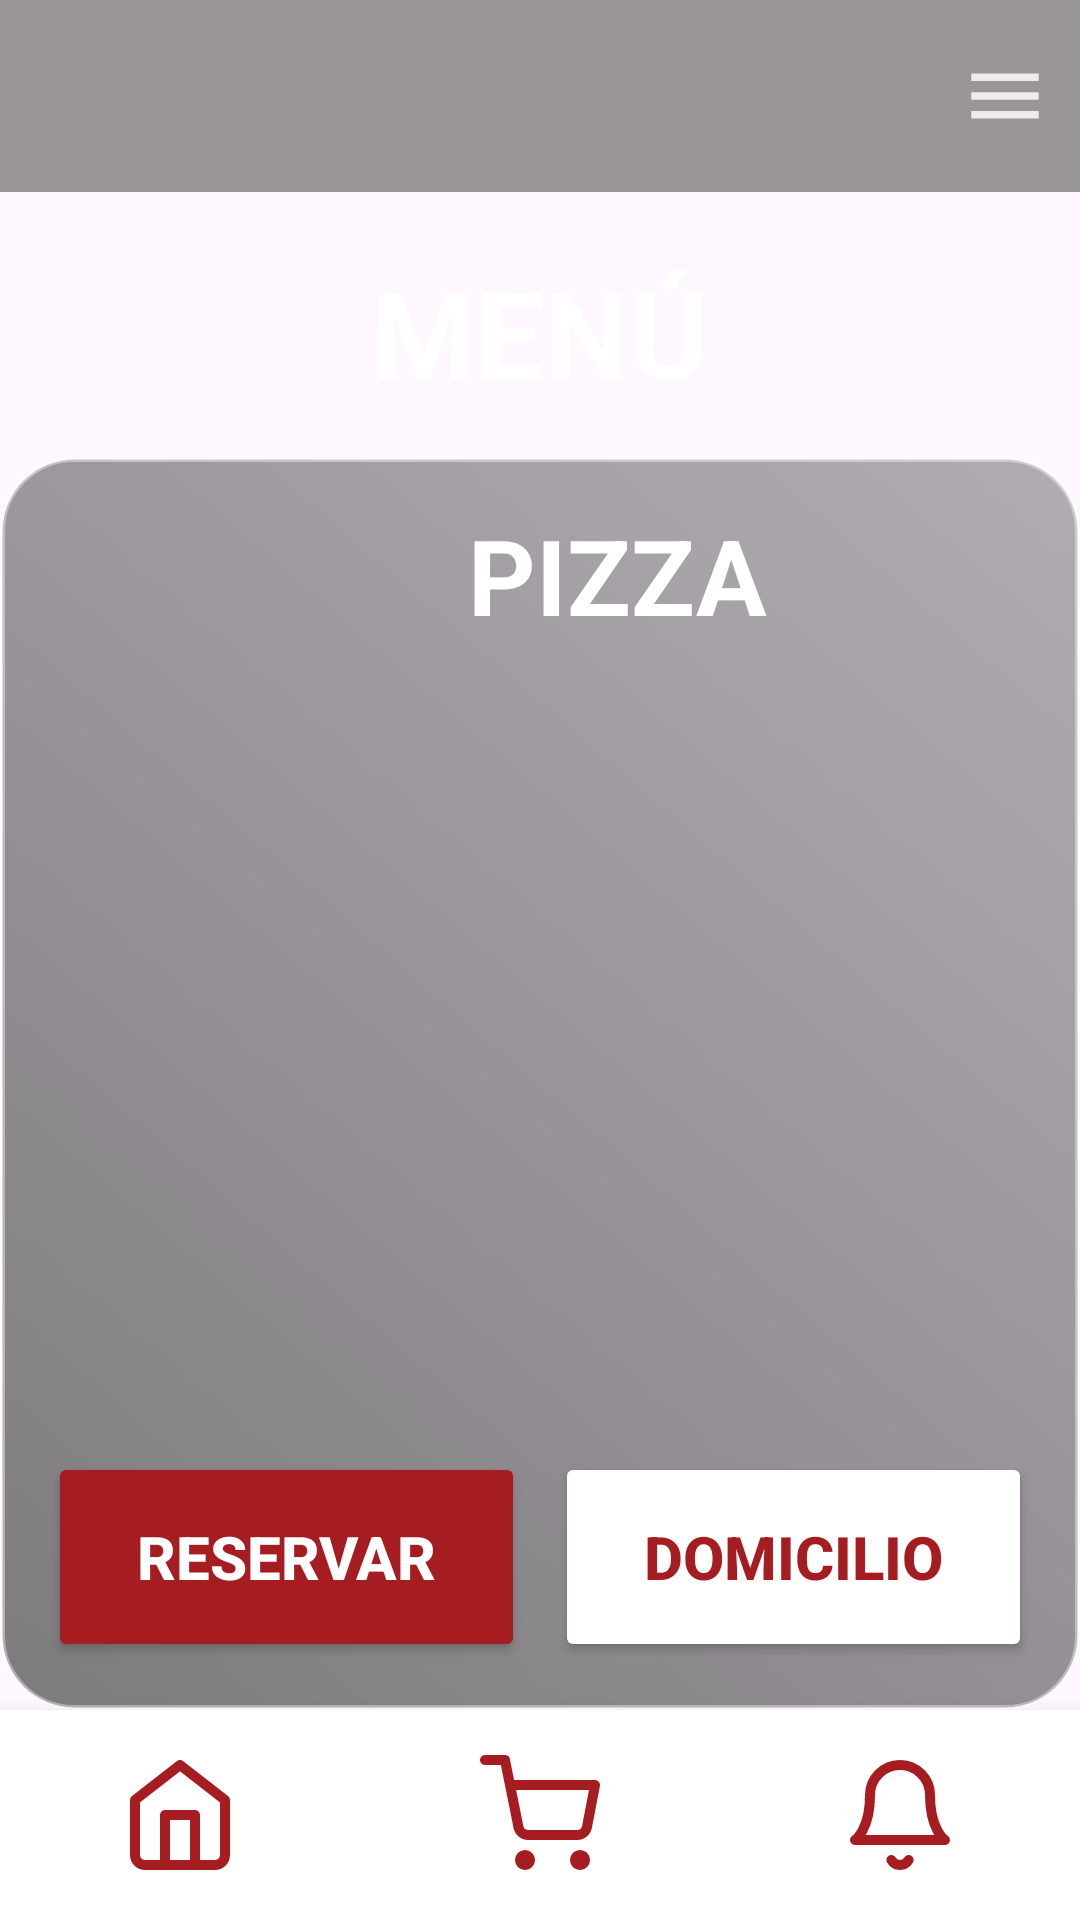

Icon bounding boxes for this 1080 x 1920 phone screenshot, format (x1, y1, x2, y2):
Carrito: (480, 1755, 600, 1870)
Inicio: (130, 1760, 230, 1870)
Menu: (971, 73, 1039, 119)
Notificaciones: (850, 1760, 950, 1870)
